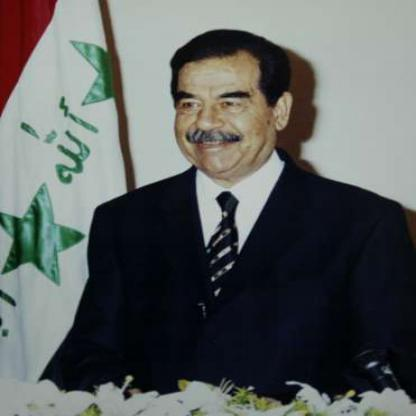face: (170, 36, 279, 178)
